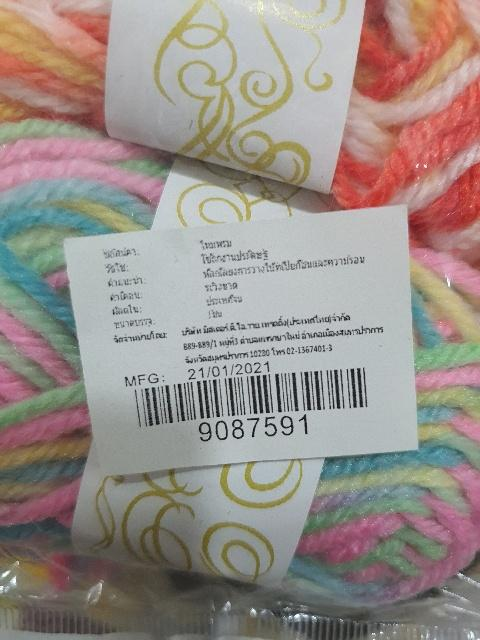Barcode: (113, 357, 386, 446)
